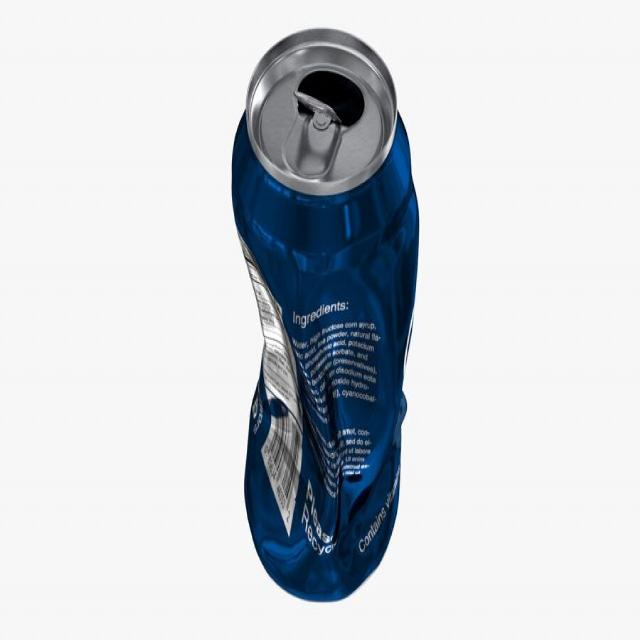non-organic waste: (228, 13, 424, 634)
